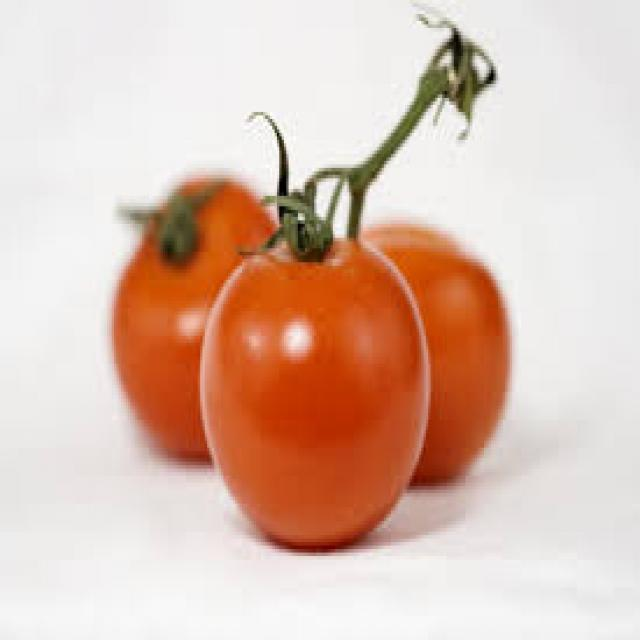organic waste: (196, 220, 428, 556), (111, 178, 282, 472), (351, 216, 510, 489)
